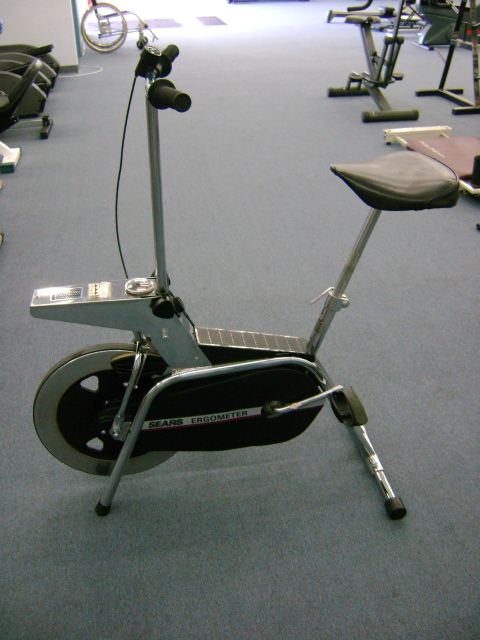gym_bike: (38, 61, 456, 542)
